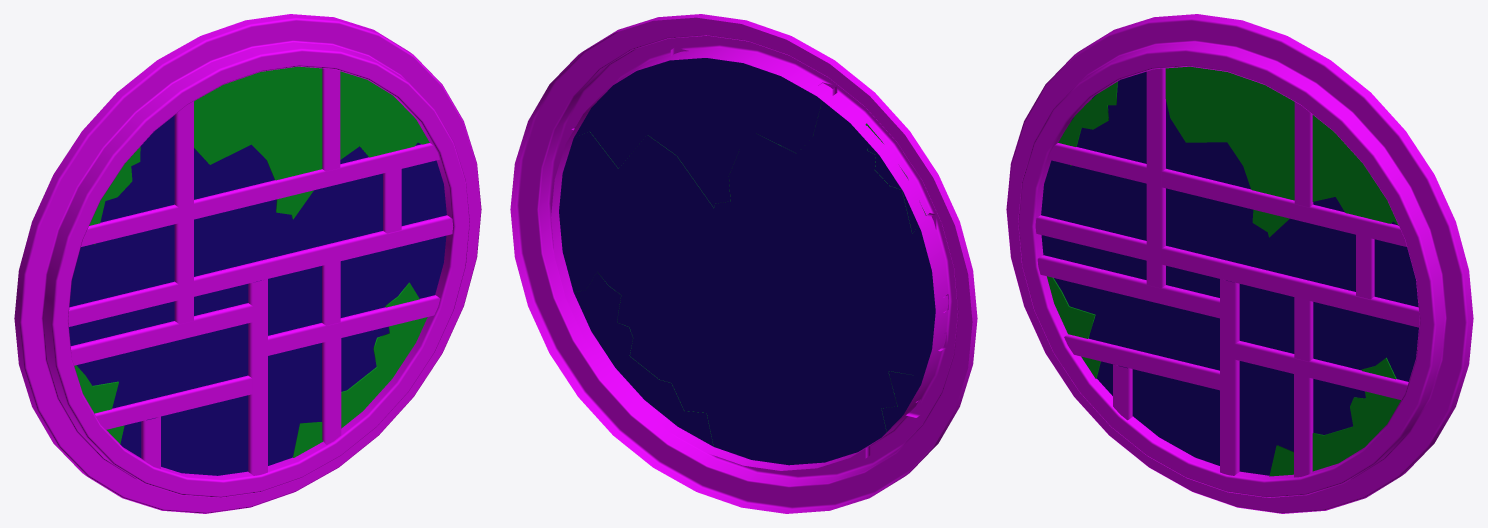
Rendered from Fenetre_Ronde_Grande_Brisee_4x4x0.FBX.
3 views of the same model, side by side, from view 1: azimuth 30°, elevation 25°; view 2: azimuth 150°, elevation 25°; view 3: azimuth 330°, elevation 25° (orthographic).
Parts seen in each view (by area): view 1: Fenetre_Ronde_Grande_Brisee_4x4x0; view 2: Fenetre_Ronde_Grande_Brisee_4x4x0; view 3: Fenetre_Ronde_Grande_Brisee_4x4x0.
Part boxes in pixels (x1,y1,x2,y2): Fenetre_Ronde_Grande_Brisee_4x4x0: (14,14,481,513); Fenetre_Ronde_Grande_Brisee_4x4x0: (510,14,977,513); Fenetre_Ronde_Grande_Brisee_4x4x0: (1006,14,1473,513).
Size of the model in its own units: 299 by 299 by 18.32.
